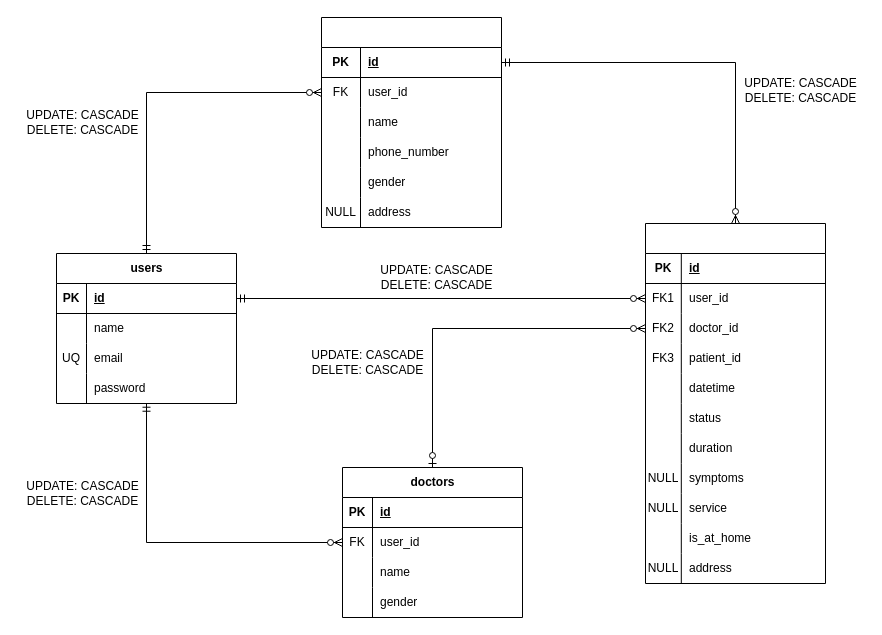
Image size: 882x635. Some labels were removed from this diagram. Here are the shapes that lost their labels. From the top down, the box of each, then its label:
(320, 16, 502, 228): patients
(644, 222, 826, 584): appointments
